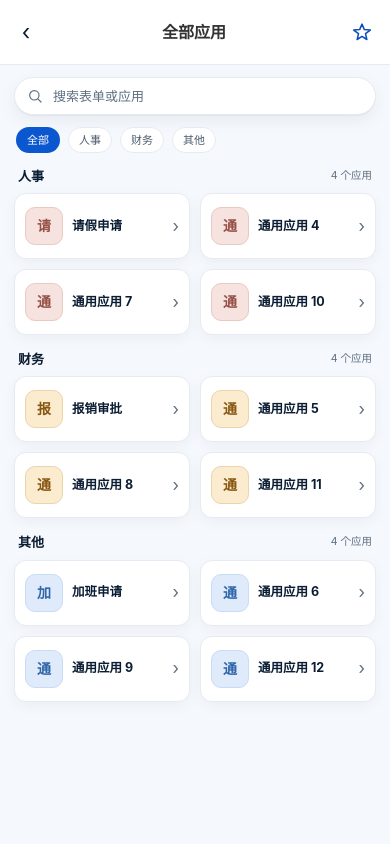
Test: AppCatalogPage › maps uncategorized apps to the other category tab
The image size is (390, 844).
Expected: the text "请假申请" is shown, [72, 218, 122, 233]
Click the button "其他" at coordinates (194, 140), box [172, 127, 216, 153]
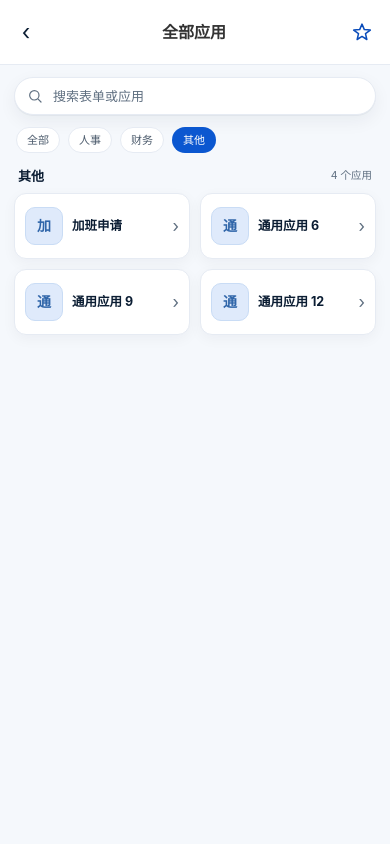
Expected: the text "加班申请" is shown, [72, 218, 122, 233]
Expected: the button "请假申请" is gone
